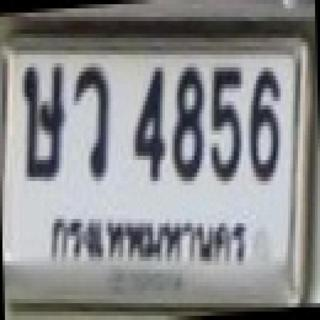A37: (70, 58, 119, 184)
A39: (18, 59, 69, 183)
N04: (128, 61, 169, 186)
N05: (209, 60, 245, 183)
N06: (245, 62, 290, 186)
N08: (170, 62, 204, 183)
P04: (47, 210, 251, 270)
